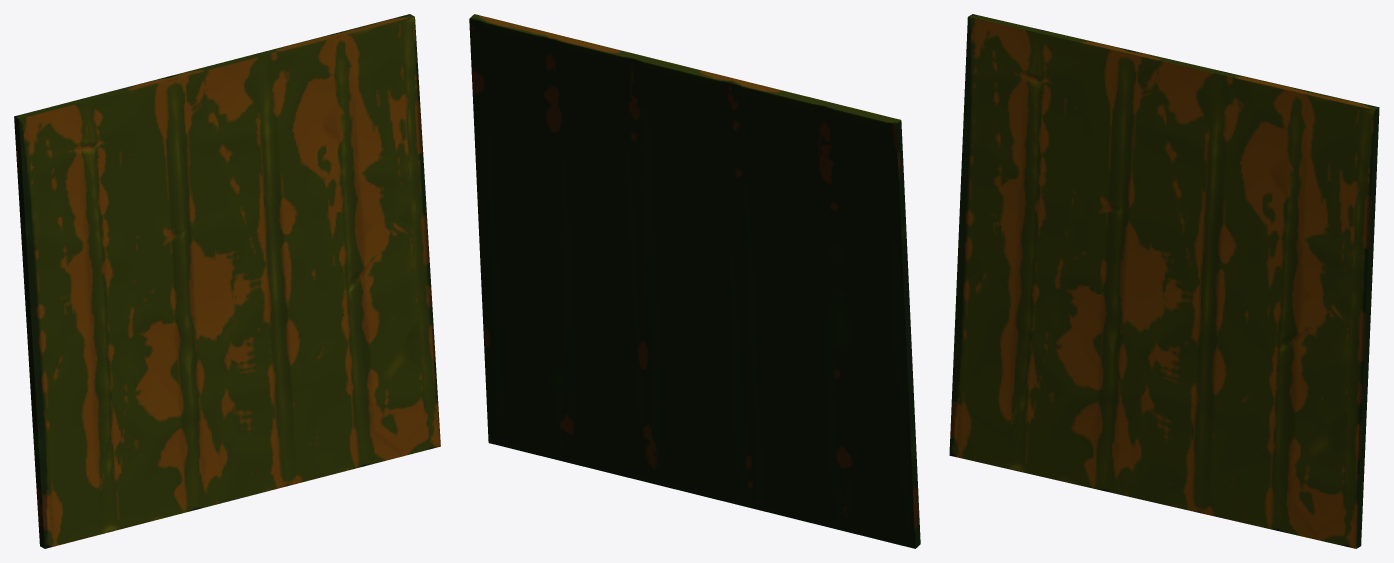
File: Metal_Roof_Piece.fbx
3 views of the same model, side by side, from view 1: azimuth 30°, elevation 25°; view 2: azimuth 150°, elevation 25°; view 3: azimuth 330°, elevation 25° (orthographic). The views are drawn at different scales.
Visible parts, largest first — view 1: Rusty plate; view 2: Rusty plate; view 3: Rusty plate.
Part boxes in pixels (bbox=[...]): Rusty plate: bbox=[14, 14, 440, 548]; Rusty plate: bbox=[469, 14, 920, 548]; Rusty plate: bbox=[949, 14, 1379, 548].
Bounding box in the file's own units: 275 × 275 × 34.38.
Materials: 1 (1 with a texture image).
